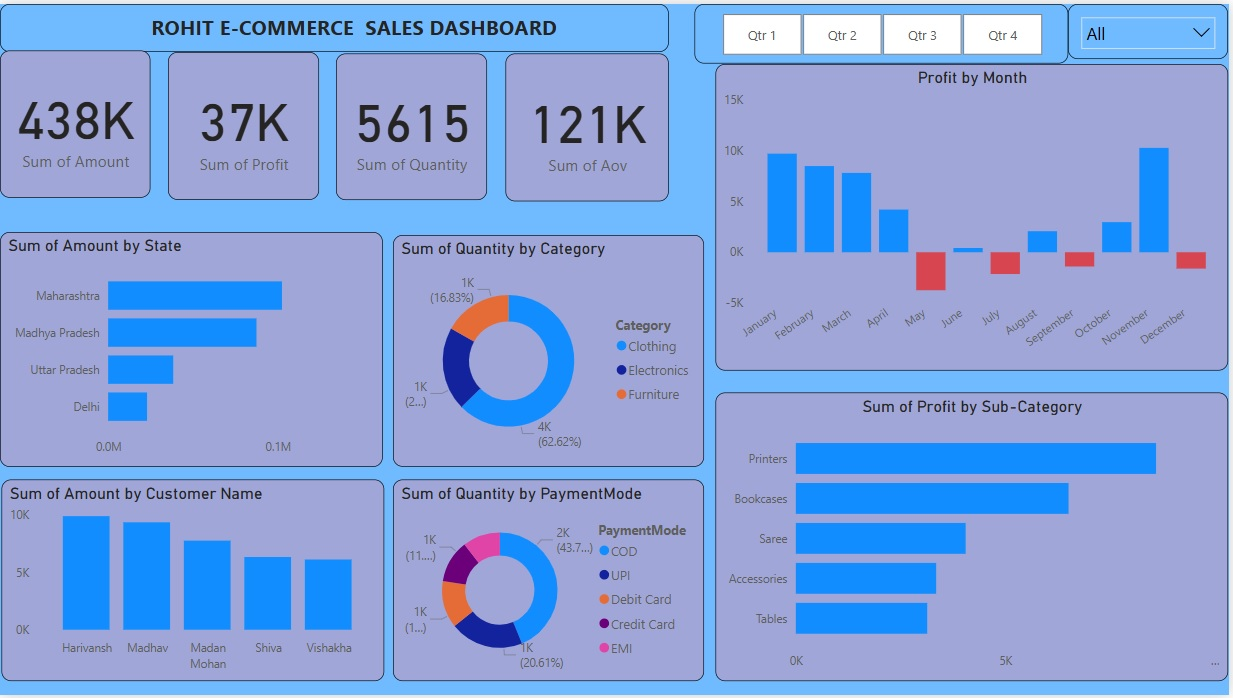

What the dashboard file says about the page in this screenshot:
{"tool":"powerbi","page":{"name":"dashboard","canvas":[1280,720],"ordinal":0},"visuals":[{"type":"textbox","box":[0,0,696.5,50],"z":0},{"type":"columnChart","title":" Profit by Month","fields":{"Y":["Details.Profit"],"Category":["Orders.Order Date.Variation.Date Hierarchy.Month"]},"box":[745.4,62,534,319.5],"z":1000},{"type":"barChart","fields":{"Category":["Details.Sub-Category"],"Y":["Details.Profit"]},"box":[745.4,405.3,534,300.4],"z":2000},{"type":"donutChart","fields":{"Category":["Details.Category"],"Y":["Details.Quantity"]},"box":[410.1,240,324.2,241.6],"z":3000},{"type":"donutChart","fields":{"Y":["Details.Quantity"],"Category":["Details.PaymentMode"]},"box":[410.1,495.9,324.2,209.8],"z":4000},{"type":"card","fields":{"Values":["Details.Amount"]},"box":[0,49.1,156.9,153.1],"z":5000},{"type":"card","fields":{"Values":["Details.Quantity"]},"box":[350.1,50.9,157.4,152.6],"z":6000},{"type":"card","fields":{"Values":["Details.Profit"]},"box":[174.8,49.3,157.4,154.2],"z":7000},{"type":"card","fields":{"Values":["Details.Aov"]},"box":[526.1,50.9,170.1,154.2],"z":8000},{"type":"barChart","fields":{"Category":["Orders.State"],"Y":["Details.Amount"]},"box":[0,236.8,398.9,244.8],"z":9000},{"type":"columnChart","title":"Sum of Amount by Customer Name","fields":{"Category":["Orders.CustomerName"],"Y":["Details.Amount"]},"box":[1.6,495.9,398.9,209.8],"z":10000},{"type":"slicer","fields":{"Values":["Orders.Order Date.Variation.Date Hierarchy.Quarter"]},"box":[723.2,0,389.4,62],"z":11000},{"type":"slicer","fields":{"Values":["Orders.State"]},"box":[1112.6,0,166.9,57.2],"z":12000}]}

Visuals, with their boxes in screenshot pixels (x1, y1, x2, y2), scaled from the page's 1280x720 canvas onto the 1233x698 screenshot:
textbox: x1=0, y1=0, x2=671, y2=48
" Profit by Month" columnChart: x1=718, y1=60, x2=1232, y2=370
barChart - Details.Sub-Category x Details.Profit: x1=718, y1=393, x2=1232, y2=684
donutChart - Details.Category x Details.Quantity: x1=395, y1=233, x2=707, y2=467
donutChart - Details.Quantity x Details.PaymentMode: x1=395, y1=481, x2=707, y2=684
card - Details.Amount: x1=0, y1=48, x2=151, y2=196
card - Details.Quantity: x1=337, y1=49, x2=489, y2=197
card - Details.Profit: x1=168, y1=48, x2=320, y2=197
card - Details.Aov: x1=507, y1=49, x2=671, y2=199
barChart - Orders.State x Details.Amount: x1=0, y1=230, x2=384, y2=467
"Sum of Amount by Customer Name" columnChart: x1=2, y1=481, x2=386, y2=684
slicer - Orders.Order Date.Variation.Date Hierarchy.Quarter: x1=697, y1=0, x2=1072, y2=60
slicer - Orders.State: x1=1072, y1=0, x2=1232, y2=55
